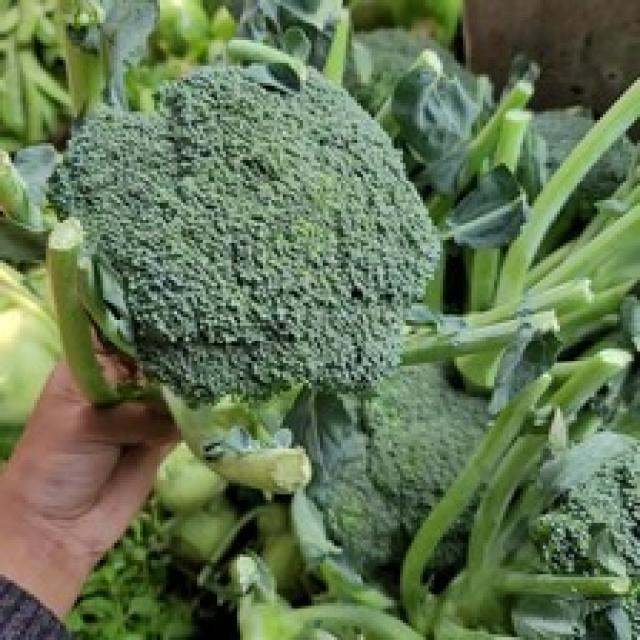Broccoli: (51, 68, 438, 399), (51, 68, 436, 398)
